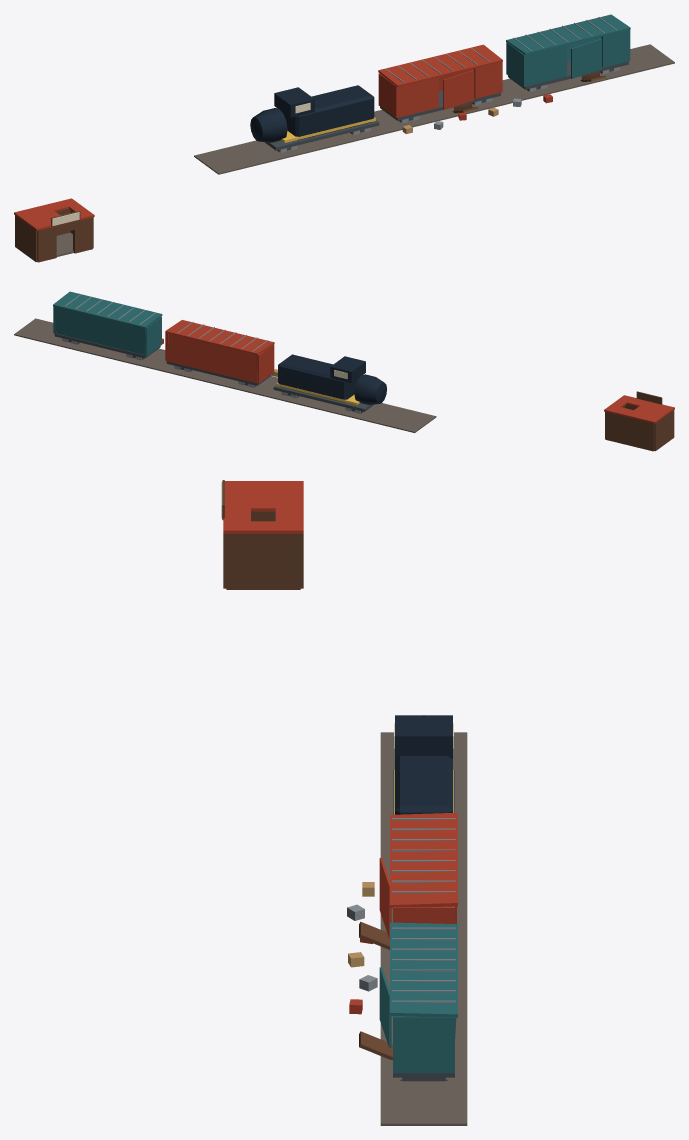
Rendered from Bldg_RailYard.fbx.
3 views of the same model, one above another, from view 1: azimuth 30°, elevation 25°; view 2: azimuth 150°, elevation 25°; view 3: azimuth 270°, elevation 25° (orthographic). The views are drawn at different scales.
Visible parts, largest first — view 1: Ballast, Loco1, Decor, Roof1, Roof2, Car3, Car9, Roof, Car10, Car4, Depot5, Car11 (+5 smaller); view 2: Ballast, Loco1, Car2, Car8, Roof2, Roof1, Decor, Depot4, Roof, Depot5, Car5, Car11 (+2 smaller); view 3: Ballast, Loco1, Roof1, Roof2, Decor, Depot6, Roof, Car12, Car6.
Boxes of the visible parts, x1,y1,x2,y2 form: Ballast: (194,44,674,174); Loco1: (250,85,379,150); Decor: (51,17,620,226); Roof1: (378,44,502,87); Roof2: (506,14,630,55); Car3: (397,77,438,117); Car9: (527,45,566,86); Roof: (14,198,94,230); Car10: (601,30,628,67); Car4: (473,62,500,98); Depot5: (15,215,37,261); Car11: (506,42,526,86); Ballast: (14,318,436,432); Loco1: (273,354,386,411); Car2: (166,334,257,383); Car8: (54,306,145,354); Roof2: (53,291,162,328); Roof1: (165,320,274,355); Decor: (62,294,662,413); Depot4: (605,412,654,451); Roof: (604,395,674,423); Depot5: (654,410,674,451); Car5: (256,344,274,383); Car11: (144,316,161,355); Ballast: (380,732,467,1125); Loco1: (393,715,454,814); Roof1: (390,812,457,908); Roof2: (390,922,457,1017); Decor: (222,480,455,1081); Depot6: (226,534,300,589); Roof: (223,481,303,533); Car12: (393,1016,454,1073); Car6: (393,906,454,923).
Bounding box in the file's own units: 224 × 15.3 × 39.75.
